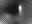person: (19, 5, 24, 17)
